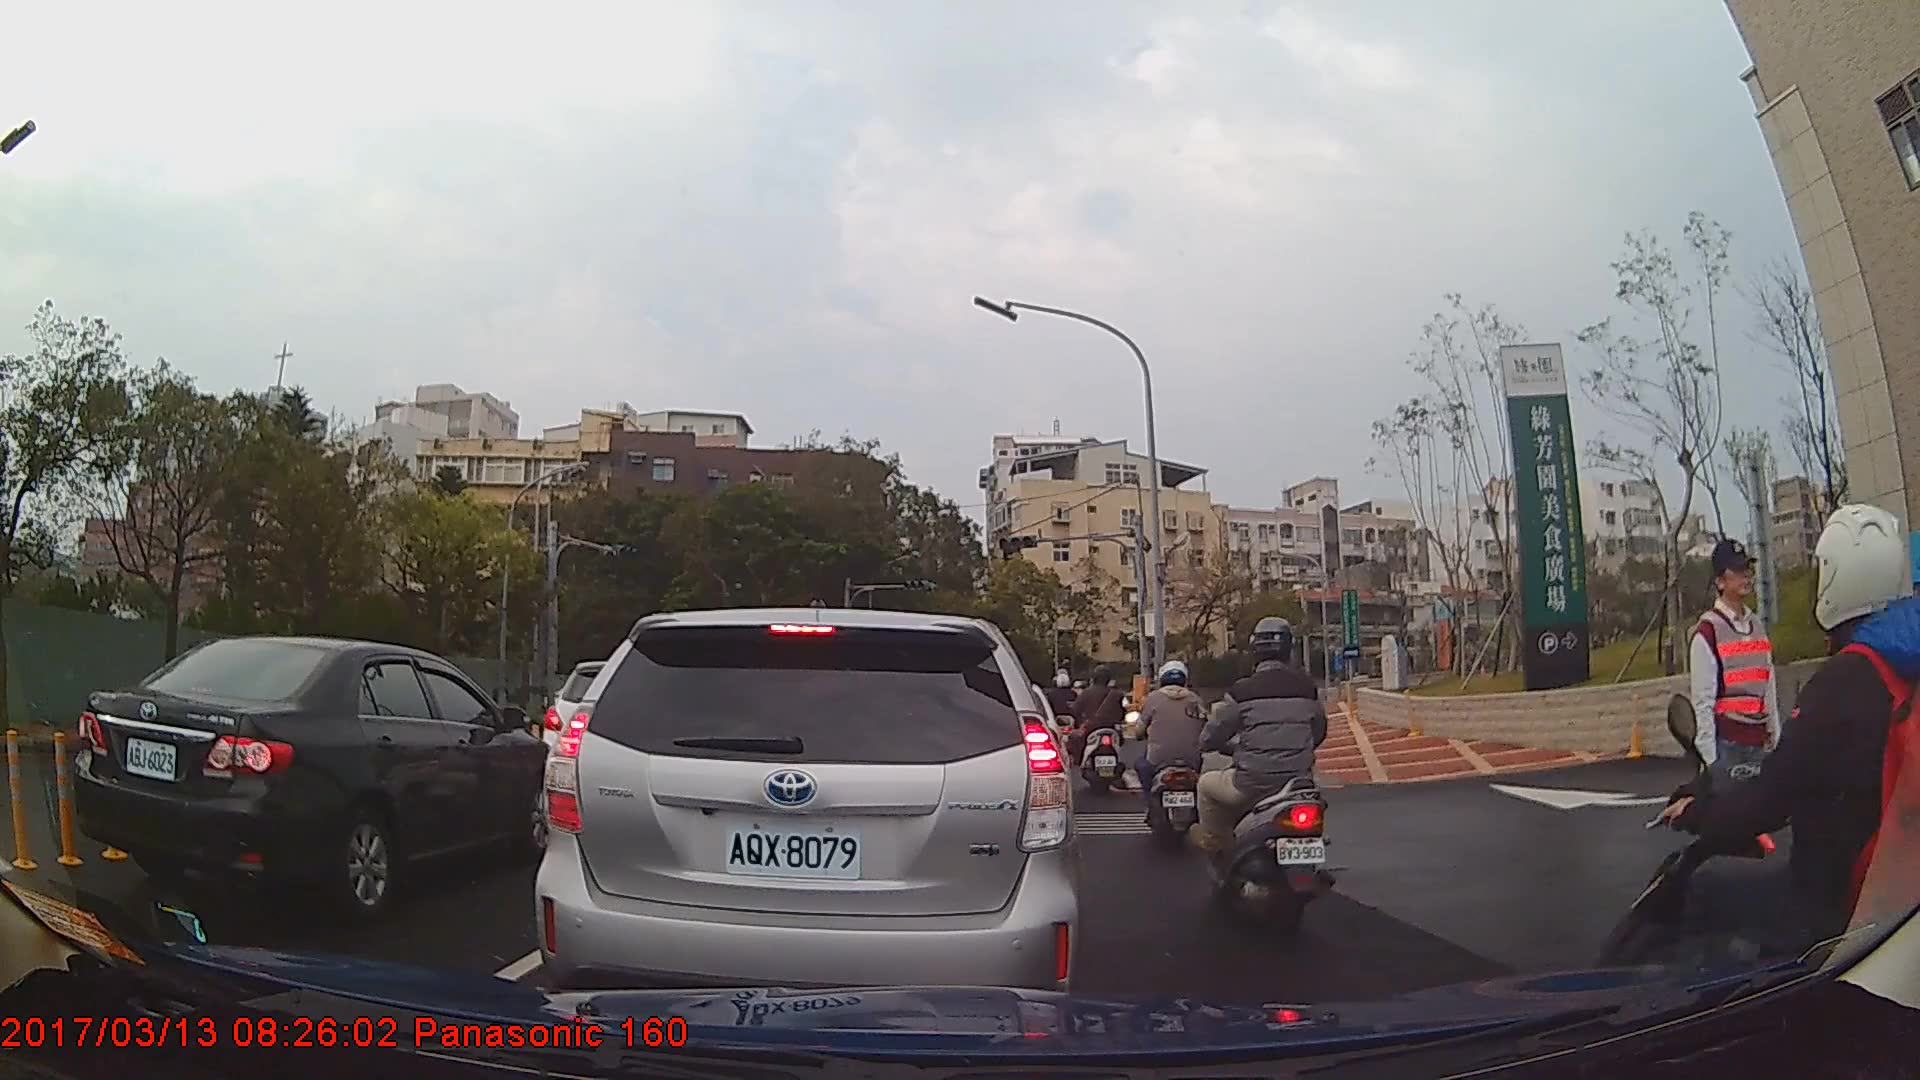pedestrian: (1689, 536, 1798, 968)
rider: (1602, 494, 1920, 1079), (1198, 618, 1342, 940), (1137, 662, 1211, 851), (1075, 665, 1134, 797), (1050, 672, 1082, 767)
vehicle: (531, 607, 1076, 1012), (75, 633, 557, 918)
